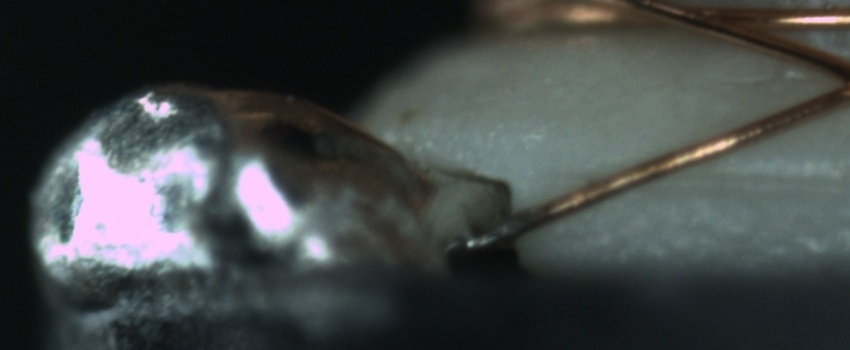DL: (621, 144, 846, 214)
TS: (454, 209, 538, 253)
